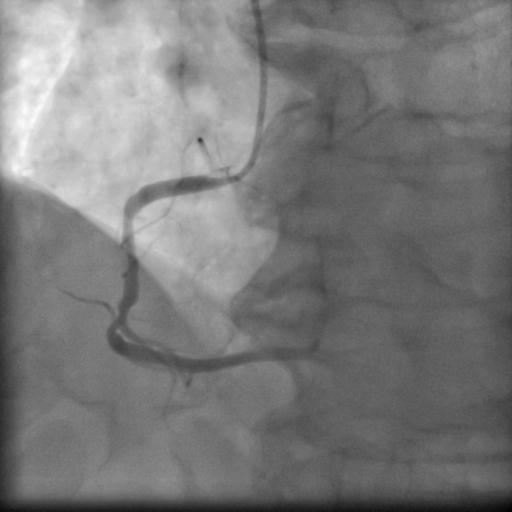Stenosis: (112, 202, 143, 329)
